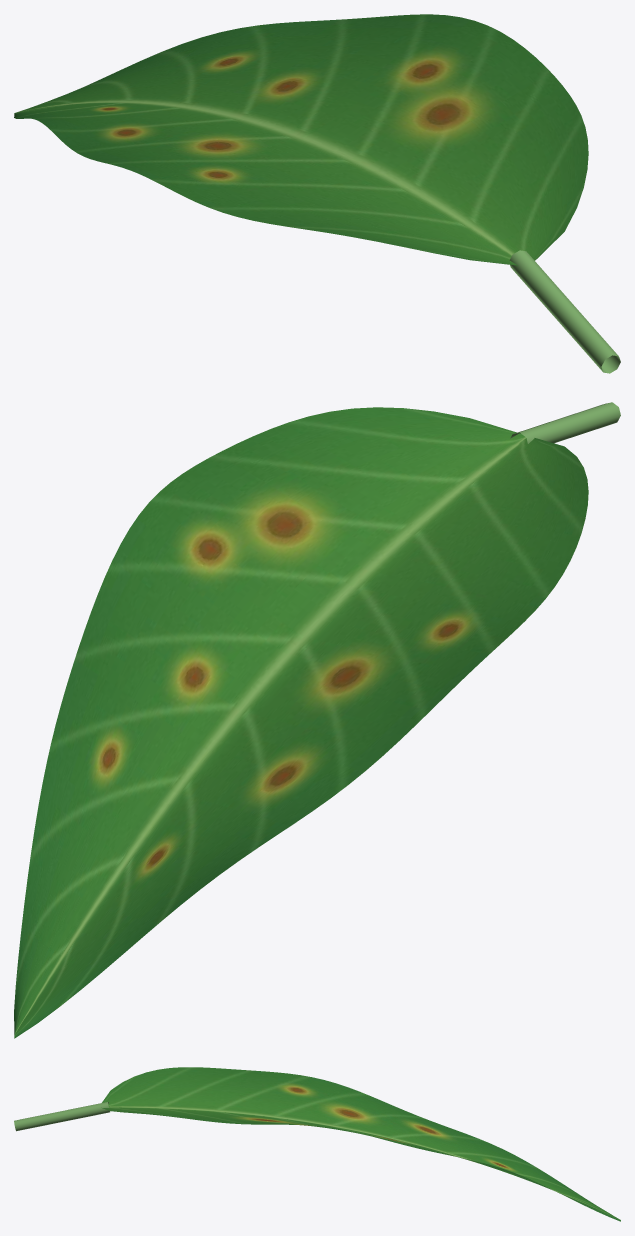
Rendered from leaf.glb.
The picture shows the model from 3 angles, top to bottom: view 1: azimuth 30°, elevation 25°; view 2: azimuth 150°, elevation 25°; view 3: azimuth 270°, elevation 25°; orthographic projection. The views are drawn at different scales.
Visible parts, largest first — view 1: LeafBlade, LeafStem; view 2: LeafBlade, LeafStem; view 3: LeafBlade, LeafStem.
Part boxes in pixels (left/top/right/bottom): LeafBlade: left=14, top=14, right=588, bottom=265; LeafStem: left=509, top=250, right=620, bottom=373; LeafBlade: left=14, top=407, right=588, bottom=1038; LeafStem: left=510, top=402, right=620, bottom=443; LeafBlade: left=101, top=1067, right=620, bottom=1221; LeafStem: left=14, top=1102, right=110, bottom=1131.
Size of the model in its own units: 0.7696 by 0.5895 by 2.32.
Materials: 2 (1 with a texture image).
